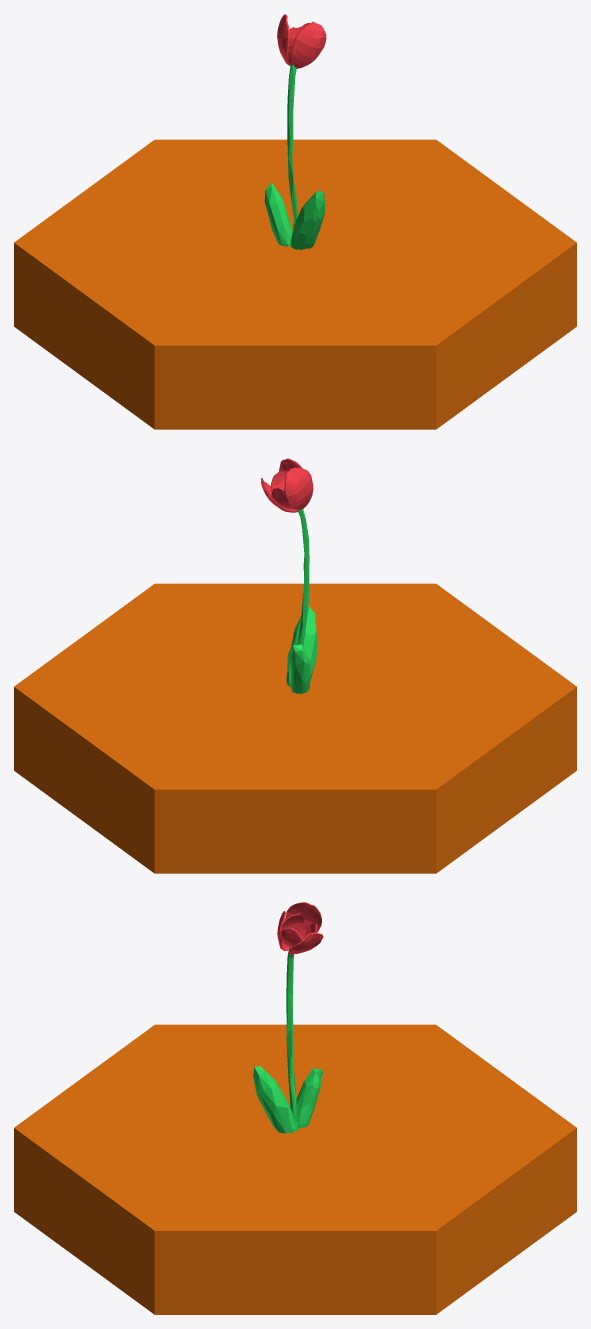
The model's file is Tulip.fbx.
3 renders of one model, top to bottom at view 1: azimuth 30°, elevation 25°; view 2: azimuth 150°, elevation 25°; view 3: azimuth 270°, elevation 25°, orthographic.
Parts seen in each view (by area): view 1: Cylinder.001; view 2: Cylinder.001; view 3: Cylinder.001.
Part boxes in pixels (x1=…): Cylinder.001: x1=14, y1=14, x2=576, y2=429; Cylinder.001: x1=14, y1=458, x2=576, y2=873; Cylinder.001: x1=14, y1=902, x2=576, y2=1314.
Bounding box in the file's own units: 3848 × 2677 × 4443.
